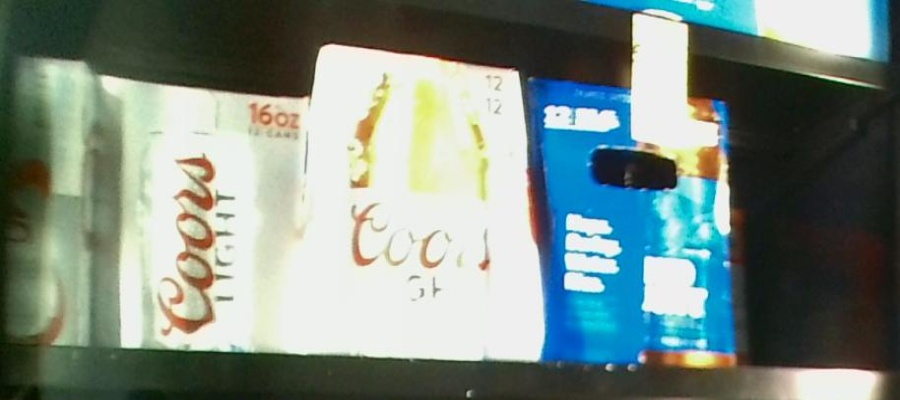bottle: (315, 44, 539, 359), (532, 75, 731, 366), (101, 77, 301, 349), (1, 60, 95, 346)
